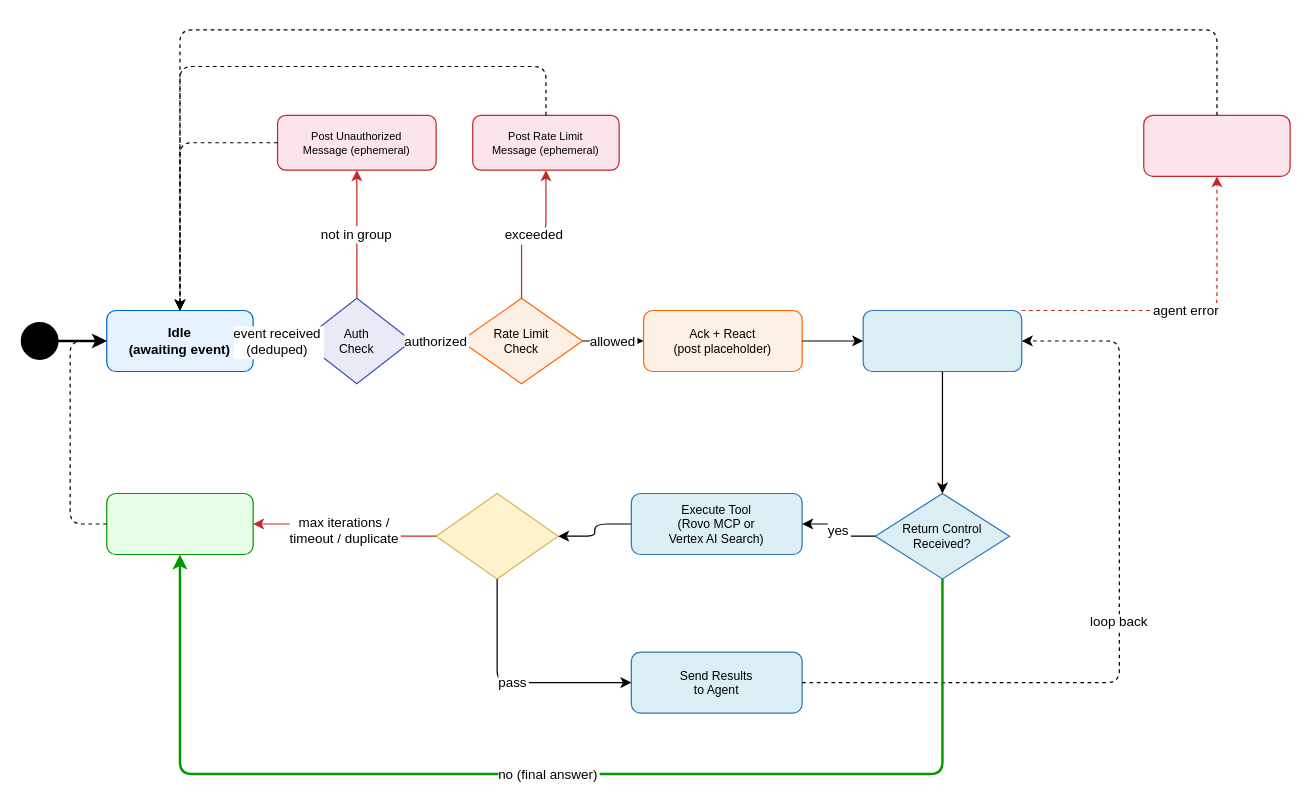
Some shapes in this 1312 by 806 pixel diagram are drawn without their labels. Each missing label, with the centre of its shape:
"Guardrail Check" goes at (496,535).
"InvokeAgent (send question)" goes at (942,340).
"Post Answer (chat.update)" goes at (179,523).
"Post Error Message" goes at (1216,145).
